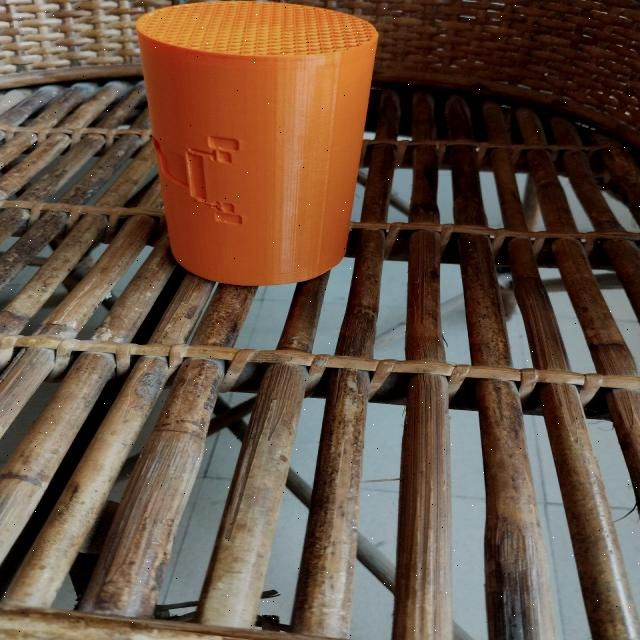Cylinder: (133, 0, 380, 286)
